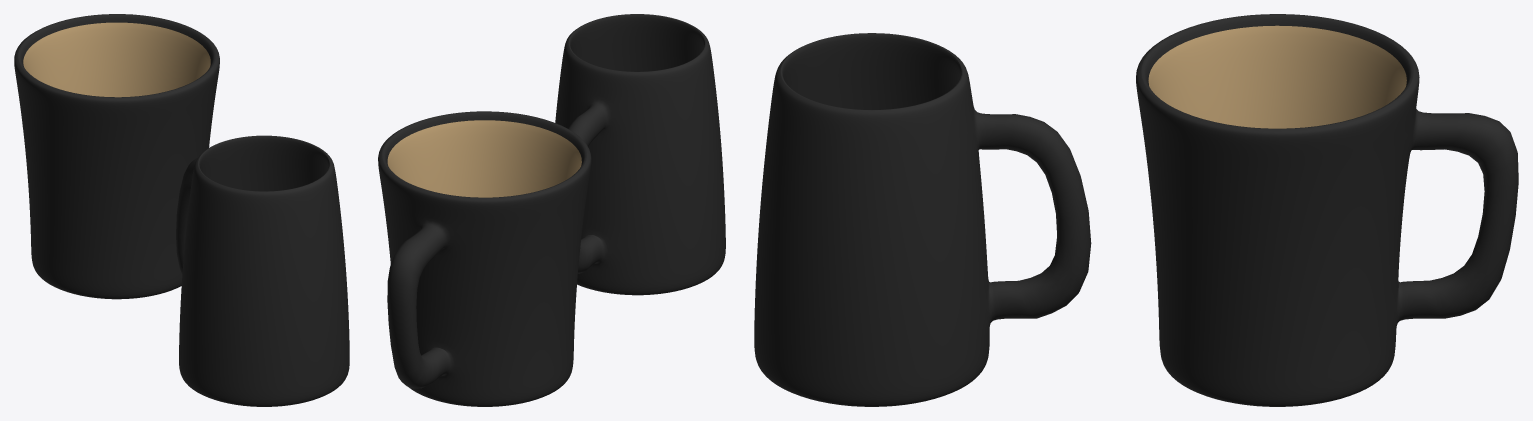
File: FBX - Simple Mug (x2).fbx
The picture shows the model from 3 angles, left to right: view 1: azimuth 30°, elevation 25°; view 2: azimuth 150°, elevation 25°; view 3: azimuth 270°, elevation 25°; orthographic projection. The views are drawn at different scales.
Visible parts, largest first — view 1: body_4, body; view 2: body_4, body; view 3: body_4, body.
Part boxes in pixels (x1,y1,x2,y2): body_4: [14, 14, 219, 299]; body: [176, 135, 349, 406]; body_4: [378, 111, 591, 406]; body: [555, 14, 725, 295]; body_4: [1136, 14, 1518, 406]; body: [754, 33, 1091, 406].
Size of the model in its own units: 11.73 by 13.16 by 31.61.
